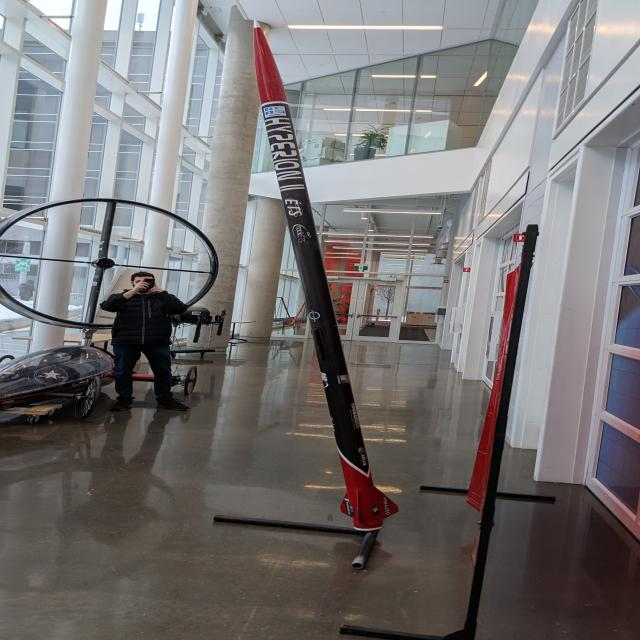Rocket: (253, 19, 399, 531)
